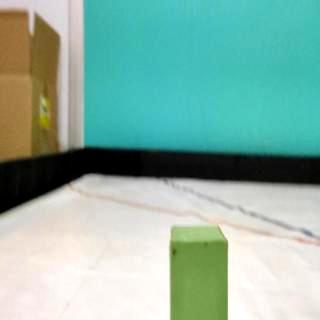greenbox: (168, 223, 230, 320)
